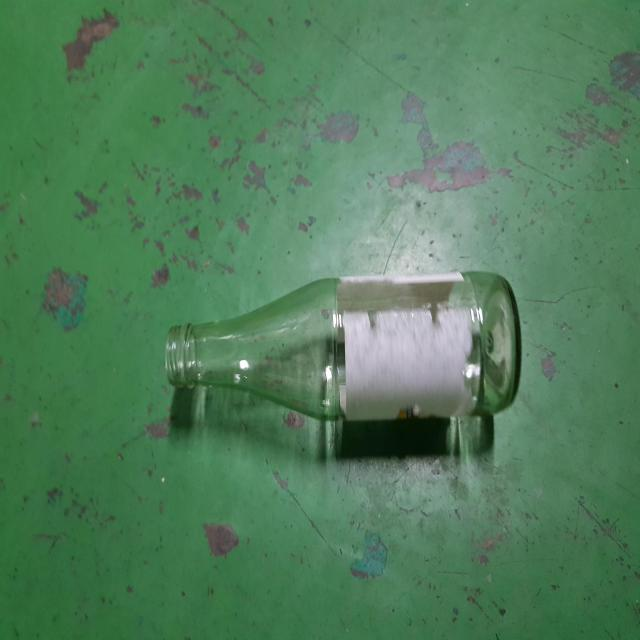glass: (165, 271, 522, 421)
